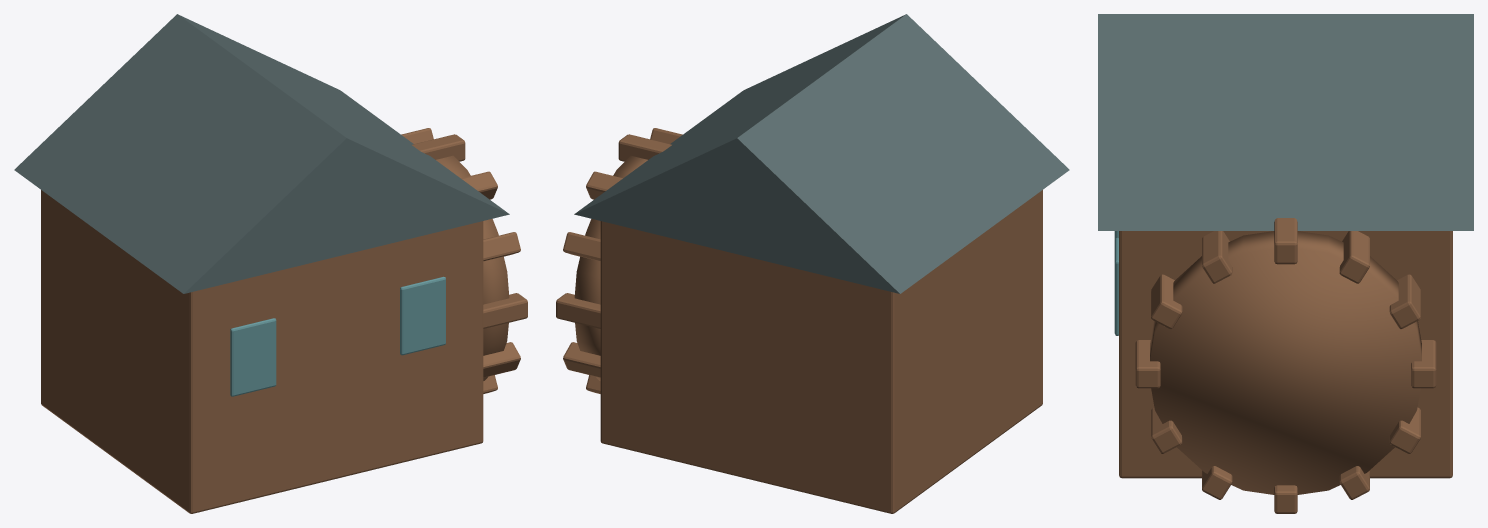
The model's file is mill.glb.
The picture shows the model from 3 angles, left to right: view 1: azimuth 30°, elevation 25°; view 2: azimuth 150°, elevation 25°; view 3: azimuth 270°, elevation 25°; orthographic projection. The views are drawn at different scales.
Parts seen in each view (by area): view 1: mill_wood, mill_roof, mill_glass; view 2: mill_wood, mill_roof; view 3: mill_wood, mill_roof, mill_glass.
Boxes of the visible parts, <box> form: mill_wood: <box>41,128,527,513</box>; mill_roof: <box>14,14,509,293</box>; mill_glass: <box>230,276,445,396</box>; mill_wood: <box>556,128,1042,513</box>; mill_roof: <box>574,14,1069,293</box>; mill_wood: <box>1119,218,1452,513</box>; mill_roof: <box>1098,14,1473,230</box>; mill_glass: <box>1114,231,1118,335</box>.
Bounding box in the file's own units: 5.55 × 5.2 × 4.5.
